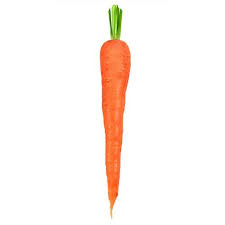carrot: (93, 37, 132, 217)
